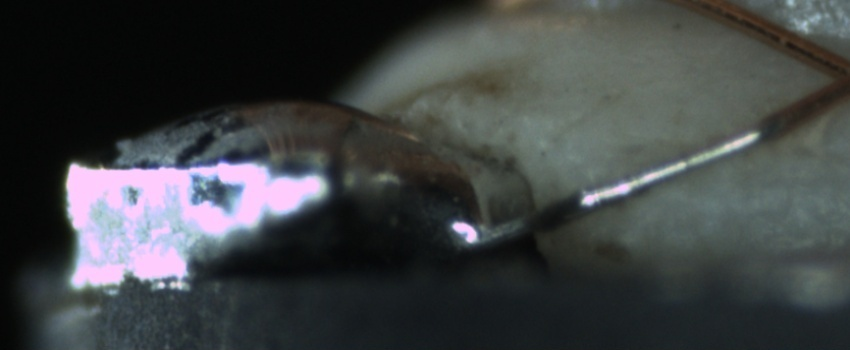CL: (804, 40, 850, 109)
TS: (468, 122, 771, 243)
